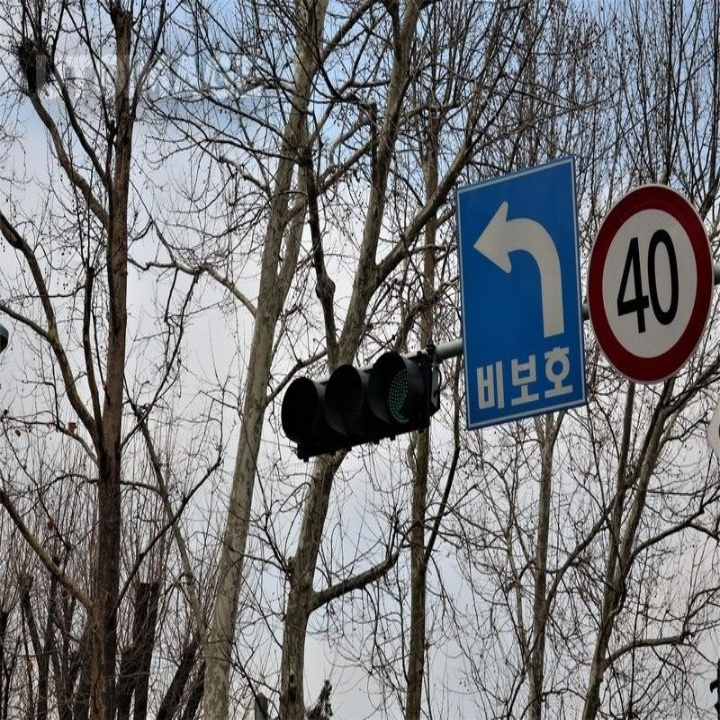left: (469, 193, 578, 342)
